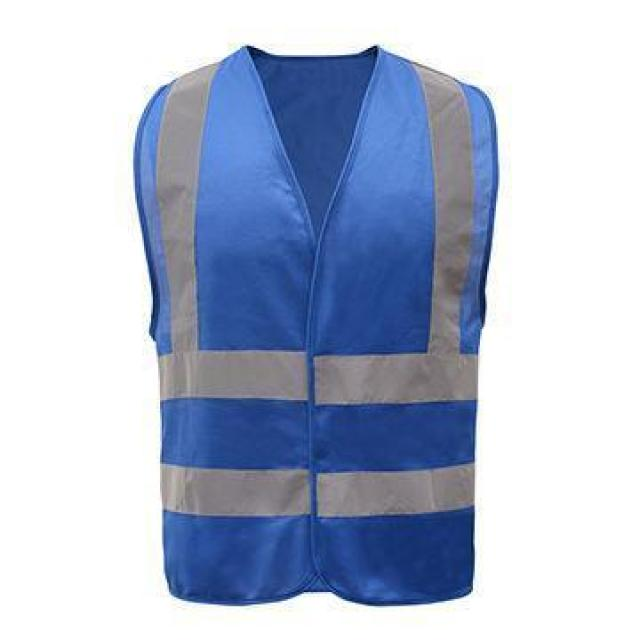Vest: (135, 44, 501, 606)
